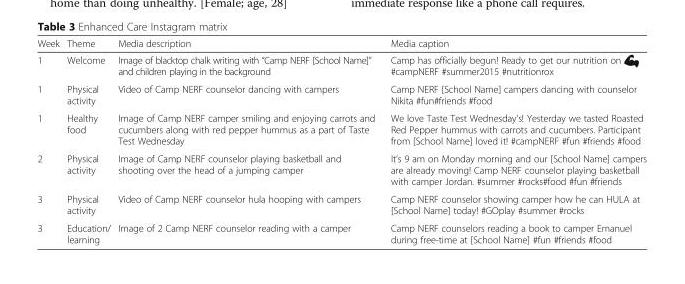table: (36, 37, 646, 244)
table column: (113, 37, 382, 244), (382, 37, 646, 244), (62, 37, 113, 244), (36, 37, 62, 244)
table column header: (36, 37, 646, 51)
table row: (36, 108, 646, 149), (36, 149, 646, 189), (36, 79, 646, 108), (36, 189, 646, 218), (36, 51, 646, 79), (36, 218, 646, 244), (36, 37, 646, 51)
